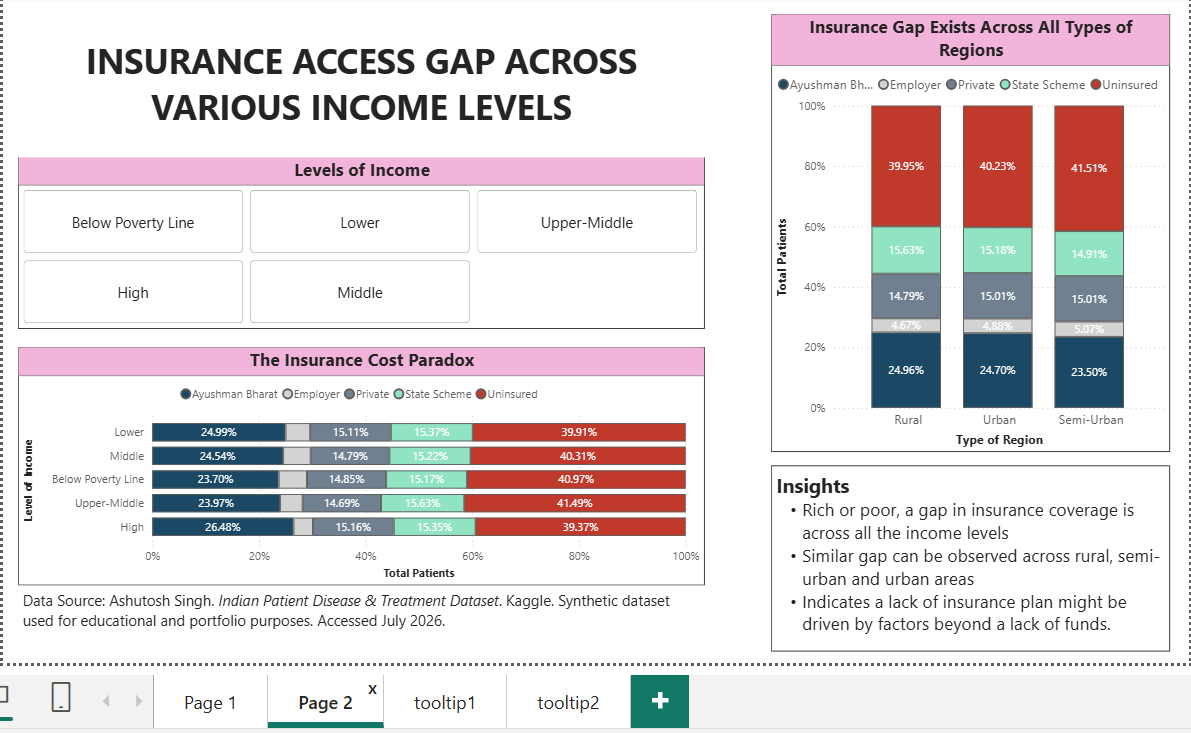

What the dashboard file says about the page in this screenshot:
{"tool":"powerbi","page":{"name":"Page 2","canvas":[1280,720],"ordinal":1},"visuals":[{"type":"advancedSlicerVisual","title":"Levels of Income","fields":{"Values":["indian_diseases cleaned.income_level"]},"box":[16.2,173.3,741.6,186.2],"z":0},{"type":"hundredPercentStackedBarChart","title":"The Insurance Cost Paradox","fields":{"Category":["indian_diseases cleaned.income_level"],"Y":["indian_diseases cleaned.Total Patients"],"Series":["indian_diseases cleaned.insurance_status"]},"box":[16.2,378.9,741.6,257.5],"z":1000},{"type":"hundredPercentStackedColumnChart","title":"Insurance Gap Exists Across All Types of Regions","fields":{"Category":["indian_diseases cleaned.urban_rural"],"Y":["indian_diseases cleaned.Total Patients"],"Series":["indian_diseases cleaned.insurance_status"]},"box":[829,19.4,430.7,472.8],"z":2000},{"type":"textbox","box":[829,506.8,430.7,200.8],"z":3000},{"type":"textbox","box":[16.7,38.3,741.7,135],"z":4000},{"type":"textbox","box":[16.2,636.4,741.6,84.2],"z":5000}]}

Visuals, with their boxes on the page's 1280x720 design canvas (x1, y1, x2, y2). These are canvas units, not pixel positions in the 1191x733 screenshot, which may show the page scaled, cropped or inside an application window:
"Levels of Income" advancedSlicerVisual: select_region(16, 173, 758, 360)
"The Insurance Cost Paradox" hundredPercentStackedBarChart: select_region(16, 379, 758, 636)
"Insurance Gap Exists Across All Types of Regions" hundredPercentStackedColumnChart: select_region(829, 19, 1260, 492)
textbox: select_region(829, 507, 1260, 708)
textbox: select_region(17, 38, 758, 173)
textbox: select_region(16, 636, 758, 721)
